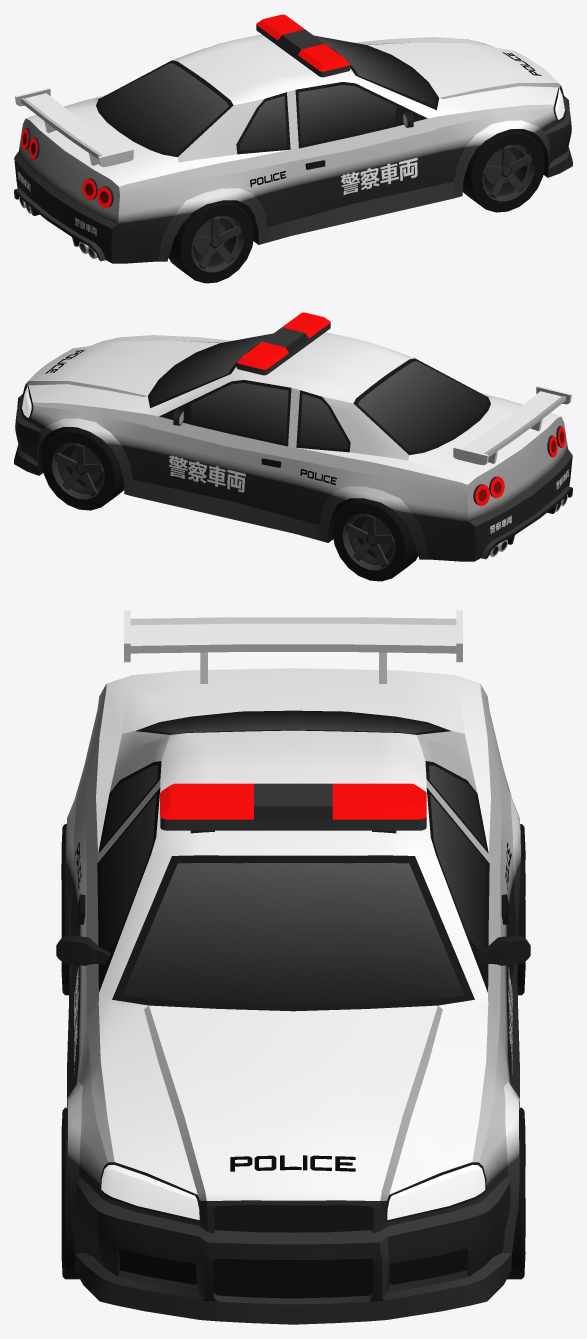
File: Emergency_031.glb
3 views of the same model, one above another, from view 1: azimuth 30°, elevation 25°; view 2: azimuth 150°, elevation 25°; view 3: azimuth 270°, elevation 25° (orthographic). The views are drawn at different scales.
Parts seen in each view (by area): view 1: Emergency_031, wheel_3_Emergency_031_Wheel_2R, wheel_1_Emergency_031_Wheel_1R; view 2: Emergency_031, wheel_2_Emergency_031_Wheel_2L, wheel_0_Emergency_031_Wheel_1L; view 3: Emergency_031, wheel_0_Emergency_031_Wheel_1L, wheel_1_Emergency_031_Wheel_1R, wheel_3_Emergency_031_Wheel_2R, wheel_2_Emergency_031_Wheel_2L.
Boxes of the visible parts, x1,y1,x2,y2 form: Emergency_031: (14,14,572,263); wheel_3_Emergency_031_Wheel_2R: (168,200,254,283); wheel_1_Emergency_031_Wheel_1R: (462,129,544,212); Emergency_031: (14,312,572,561); wheel_2_Emergency_031_Wheel_2L: (332,498,418,581); wheel_0_Emergency_031_Wheel_1L: (42,427,124,510); Emergency_031: (56,610,530,1324); wheel_0_Emergency_031_Wheel_1L: (507,1107,525,1279); wheel_1_Emergency_031_Wheel_1R: (61,1107,79,1279); wheel_3_Emergency_031_Wheel_2R: (61,824,69,995); wheel_2_Emergency_031_Wheel_2L: (517,824,525,995).
Size of the model in its own units: 4.74 by 1.5 by 1.93.
Materials: 3 (3 with a texture image).
